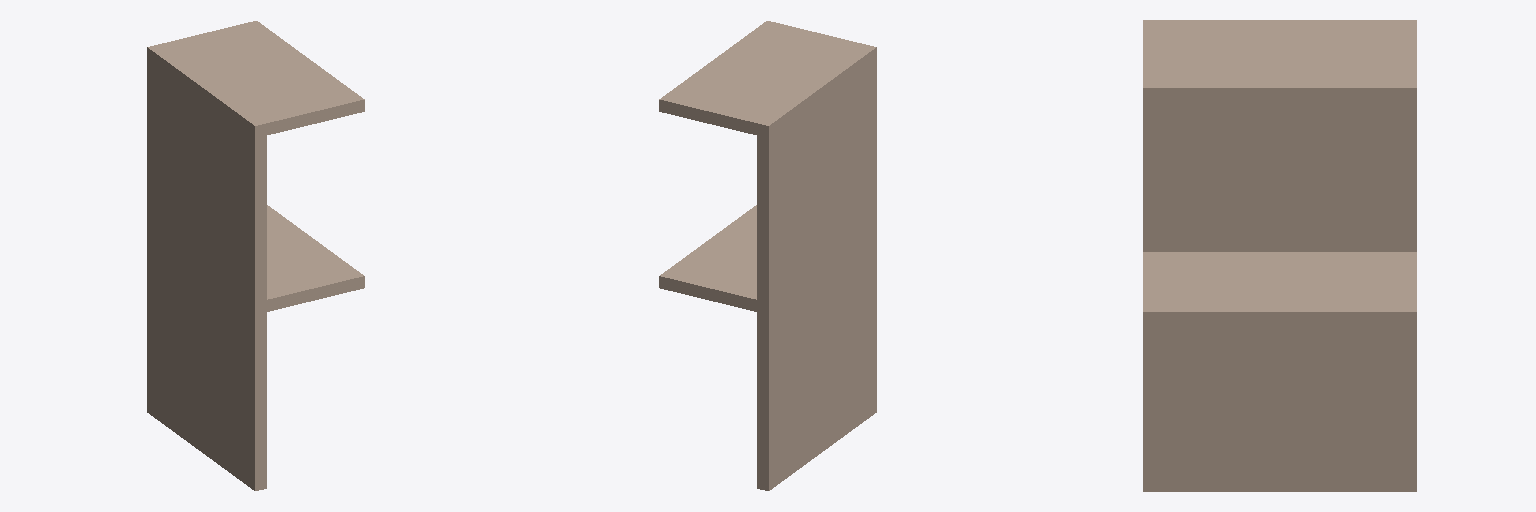
The robot description file, URDF, robot "wooden_rack":
<?xml version="1.0" ?>
<robot name="wooden_rack">
    <material name="wood_mdf_texture">
        <color rgba="0.76 0.69 0.63 1"/>
    </material>

    <link name="base_link"/>

    <link name="backplate">
        <visual>
            <origin xyz="0 0 0" rpy="0 0 0"/>
            <geometry>
                <box size="0.018 0.287 0.536"/>
            </geometry>
            <material name="wood_mdf_texture"/>
        </visual>
        <collision>
            <origin xyz="0 0 0" rpy="0 0 0"/>
            <geometry>
                <box size="0.018 0.287 0.536"/>
            </geometry>
        </collision>
        <inertial>
            <mass value="1.0"/>
            <origin xyz="0 0 0" rpy="0 0 0"/>
            <inertia ixx="0.024" ixy="0.0" ixz="0.0" iyy="0.0308" iyz="0.0" izz="0.0069"/>
        </inertial>
    </link>

    <link name="lower_shelf_link">
        <visual>
            <origin xyz="0 0 0" rpy="0 0 0"/>
            <geometry>
                <box size="0.15 0.287 0.018"/>
            </geometry>
            <material name="wood_mdf_texture"/>
        </visual>
        <collision>
            <origin xyz="0 0 0" rpy="0 0 0"/>
            <geometry>
                <box size="0.15 0.287 0.018"/>
            </geometry>
        </collision>
        <inertial>
            <mass value="0.25"/>
            <origin xyz="0 0 0" rpy="0 0 0"/>
            <inertia ixx="0.0069" ixy="0.0" ixz="0.0" iyy="0.0019" iyz="0.0" izz="0.0087"/>
        </inertial>
    </link>

    <link name="upper_shelf_link">
        <visual>
            <origin xyz="0 0 0" rpy="0 0 0"/>
            <geometry>
                <box size="0.15 0.287 0.018"/>
            </geometry>
            <material name="wood_mdf_texture"/>
        </visual>
        <collision>
            <origin xyz="0 0 0" rpy="0 0 0"/>
            <geometry>
                <box size="0.15 0.287 0.018"/>
            </geometry>
        </collision>
        <inertial>
            <mass value="0.25"/>
            <origin xyz="0 0 0" rpy="0 0 0"/>
            <inertia ixx="0.0069" ixy="0.0" ixz="0.0" iyy="0.0019" iyz="0.0" izz="0.0087"/>
        </inertial>
    </link>

    <!--    LINK EVERYTHING TOGETHER-->

    <joint name="base_link_2_backplate" type="fixed">
        <parent link="base_link"/>
        <child link="backplate"/>
        <origin xyz="0 0 0" rpy="0 0 0"/>
    </joint>

    <joint name="backplate_2_lower_shelf_link" type="fixed">
        <parent link="backplate"/>
        <child link="lower_shelf_link"/>
        <origin xyz="0.084 0 0" rpy="0 0 0"/> <!-- x=0.075+0.018/2 -->
    </joint>

    <joint name="backplate_2_upper_shelf_link" type="fixed">
        <parent link="backplate"/>
        <child link="upper_shelf_link"/>
        <origin xyz="0.084 0 0.259" rpy="0 0 0"/> <!-- x=0.075+0.018/2 and z=0.536/2-0.018/2 -->
    </joint>

    <!-- Virtual links, i.e. useful frames -->
    <link name="backplate_centre"/>

    <joint name="backplate_base_2_backplate_centre" type="fixed">
        <parent link="backplate"/>
        <child link="backplate_centre"/>
        <origin xyz="0 0 0" rpy="0 0 0"/>
    </joint>

    <link name="backplate_lower_centre"/>
    <joint name="backplate_lower_2_backplate_lower_centre" type="fixed">
        <parent link="backplate"/>
        <child link="backplate_lower_centre"/>
        <origin xyz="0 0 -0.268" rpy="0 0 0"/>
    </joint>

</robot>

--- Render facts (derived) ---
Views: 3 orthographic renders of the robot side by side, from view 1: azimuth 30°, elevation 25°; view 2: azimuth 150°, elevation 25°; view 3: azimuth 270°, elevation 25°.
Model wooden_rack with 6 links and 5 joints (5 fixed), rooted at base_link, posed all joints at 0.
Visible links, largest first — view 1: backplate, upper_shelf_link, lower_shelf_link; view 2: backplate, upper_shelf_link, lower_shelf_link; view 3: backplate, lower_shelf_link, upper_shelf_link.
Boxes of the visible links, x1,y1,x2,y2 form: backplate: [147, 44, 266, 490]; upper_shelf_link: [159, 21, 364, 134]; lower_shelf_link: [267, 205, 364, 311]; backplate: [757, 44, 876, 490]; upper_shelf_link: [659, 21, 864, 134]; lower_shelf_link: [659, 205, 756, 311]; backplate: [1143, 20, 1416, 491]; lower_shelf_link: [1143, 252, 1416, 327]; upper_shelf_link: [1143, 28, 1416, 103].
Bounding box of the posed robot: 0.168 × 0.287 × 0.536 m (x, y, z).
Geometry: primitives only (box / cylinder / sphere), no mesh files.
